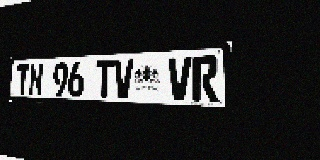6: (68, 61, 84, 97)
9: (53, 62, 68, 97)
N: (29, 63, 43, 96)
R: (192, 55, 218, 101)
T: (95, 60, 114, 98), (16, 64, 30, 95)
V: (168, 56, 192, 101), (114, 59, 133, 99)
